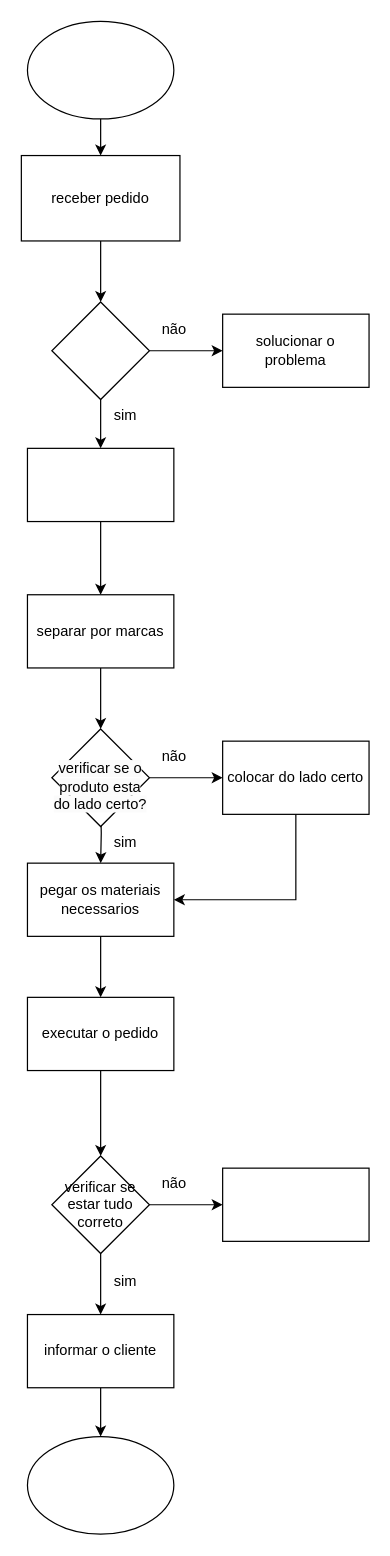
The diagram is 390 pixels wide and 1556 high, and some of its shapes have lost their labels. Each missing label, with the centre of its shape:
"arte aprovada?" goes at (x=100, y=350).
"começar a fazer o pedido" goes at (x=100, y=484).
"fim" goes at (x=100, y=1484).
"Inicio" goes at (x=100, y=69).
"soluciona o problema" goes at (x=295, y=1204).
